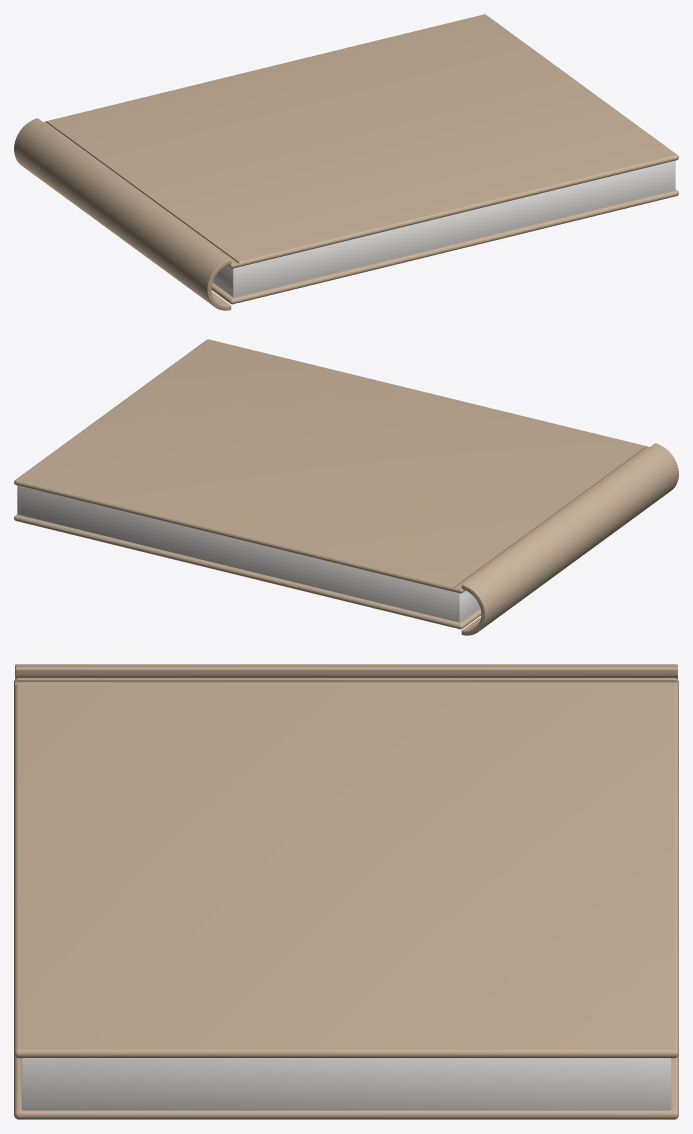
Rendered from plain--landscape.glb.
The picture shows the model from 3 angles, top to bottom: view 1: azimuth 30°, elevation 25°; view 2: azimuth 150°, elevation 25°; view 3: azimuth 270°, elevation 25°; orthographic projection. The views are drawn at different scales.
Visible parts, largest first — view 1: CoverFront, Pages, Spine, CoverBack; view 2: CoverFront, Pages, Spine, CoverBack; view 3: CoverFront, Pages, Spine, CoverBack.
Part boxes in pixels (left/top/right/bottom): CoverFront: left=43, top=14, right=678, bottom=268; Pages: left=213, top=160, right=675, bottom=297; Spine: left=14, top=118, right=231, bottom=310; CoverBack: left=211, top=189, right=678, bottom=304; CoverFront: left=14, top=339, right=649, bottom=593; Pages: left=17, top=485, right=479, bottom=622; Spine: left=461, top=443, right=678, bottom=635; CoverBack: left=14, top=514, right=481, bottom=629; CoverFront: left=14, top=678, right=678, bottom=1058; Pages: left=21, top=1058, right=671, bottom=1110; Spine: left=15, top=664, right=677, bottom=679; CoverBack: left=14, top=1055, right=678, bottom=1119.
Size of the model in its own units: 0.4208 by 0.043 by 0.3.
